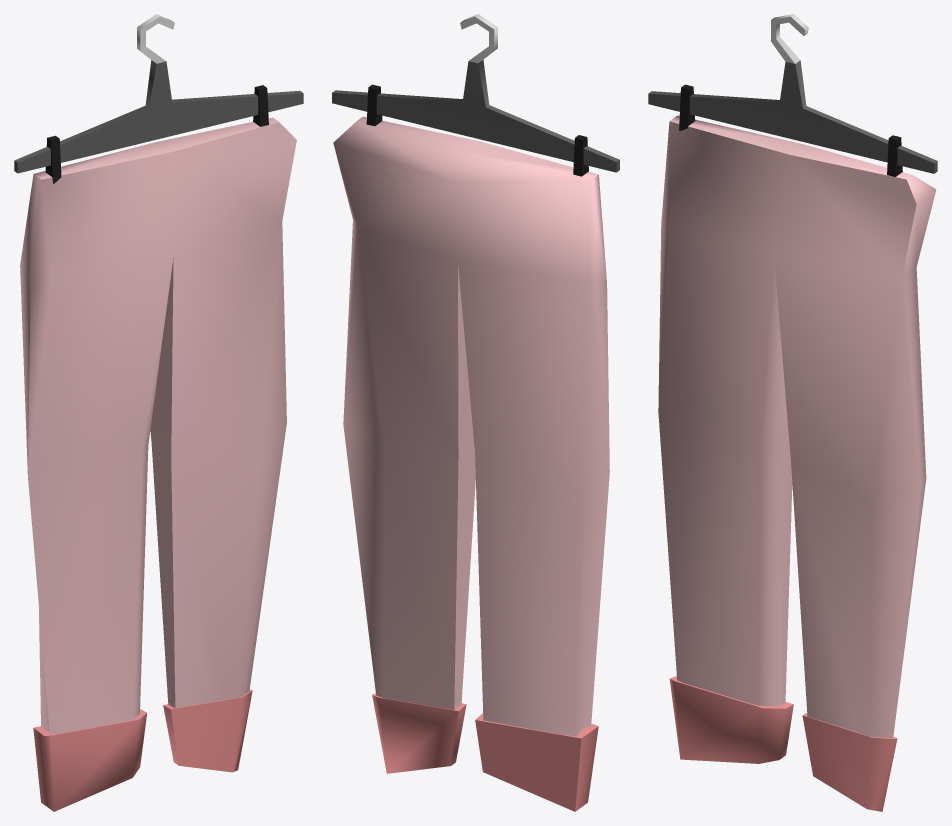
The model's file is clothes_013.glb.
3 renders of one model, left to right at view 1: azimuth 30°, elevation 25°; view 2: azimuth 150°, elevation 25°; view 3: azimuth 330°, elevation 25°, orthographic.
Visible parts, largest first — view 1: clothes_013; view 2: clothes_013; view 3: clothes_013.
Part boxes in pixels (x1,y1,x2,y2): clothes_013: [14, 14, 303, 811]; clothes_013: [332, 14, 619, 811]; clothes_013: [648, 14, 937, 811].
Bounding box in the file's own units: 0.3759 × 0.9794 × 0.0912.
1 material, 1 textured.
